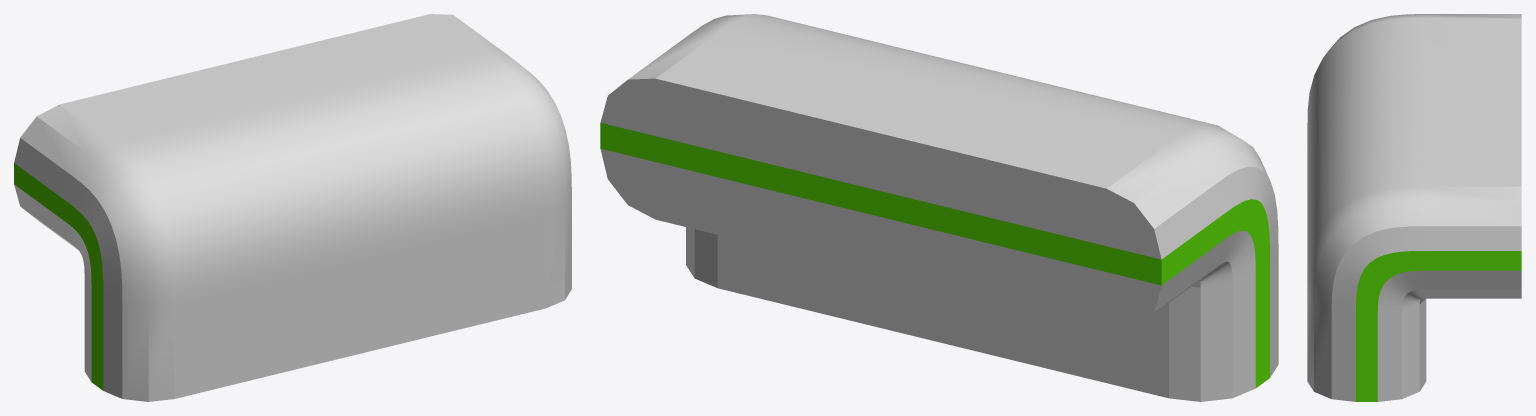
The model's file is SimpleCurve.fbx.
3 renders of one model, left to right at view 1: azimuth 30°, elevation 25°; view 2: azimuth 150°, elevation 25°; view 3: azimuth 270°, elevation 25°, orthographic. The views are drawn at different scales.
Parts seen in each view (by area): view 1: SimpleCurve; view 2: SimpleCurve; view 3: SimpleCurve.
Boxes of the visible parts, x1,y1,x2,y2 form: SimpleCurve: (14, 14, 571, 401); SimpleCurve: (600, 14, 1278, 401); SimpleCurve: (1307, 14, 1521, 401).
Size of the model in its own units: 12.28 by 5.34 by 5.31.
